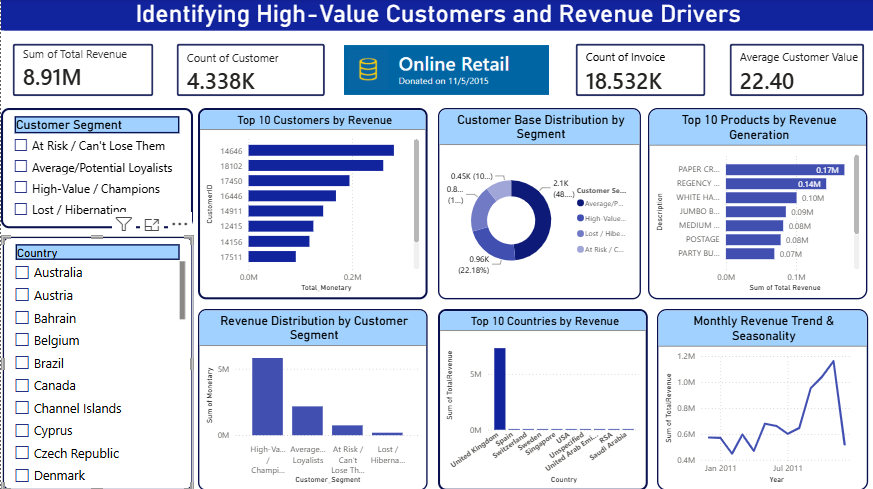

Layout of this report page (visuals, bound fields, positions):
{"tool":"powerbi","page":{"name":"Page 1","canvas":[1280,720],"ordinal":0},"visuals":[{"type":"cardVisual","fields":{"Data":["Count(cleaned_online_retail.CustomerID)"]},"box":[240,48.6,251.4,111.4],"z":0},{"type":"cardVisual","fields":{"Data":["Count(cleaned_online_retail.InvoiceNo)"]},"box":[824.3,48.6,224.3,111.4],"z":1000},{"type":"cardVisual","fields":{"Data":["Avg(cleaned_online_retail.TotalRevenue)"]},"box":[1048.6,48.6,231.4,111.4],"z":2000},{"type":"cardVisual","fields":{"Data":["Sum(cleaned_online_retail.TotalRevenue)"]},"box":[0,48.6,240,111.4],"z":3000},{"type":"slicer","fields":{"Values":["customer_summary.Customer_Segment"]},"box":[0,160,281.4,175.7],"z":4000},{"type":"slicer","fields":{"Values":["cleaned_online_retail.Country"]},"box":[1.4,347.1,280,372.9],"z":5000},{"type":"donutChart","title":"Customer Base Distribution by Segment","fields":{"Category":["customer_summary.Customer_Segment"],"Y":["Count(customer_summary.CustomerID)"]},"box":[640,160,297.1,280],"z":6000},{"type":"lineChart","title":"Monthly Revenue Trend & Seasonality","fields":{"Y":["Sum(cleaned_online_retail.TotalRevenue)"],"Category":["cleaned_online_retail.InvoiceMonth.Variation.Date Hierarchy.Year","cleaned_online_retail.InvoiceMonth.Variation.Date Hierarchy.Month"]},"box":[960,454.3,308.6,265.7],"z":7000},{"type":"clusteredBarChart","title":"Top 10 Products by Revenue Generation","fields":{"Category":["product_summary.Description"],"Y":["Sum(product_summary.Total_Revenue)"]},"box":[947.1,160,321.4,280],"z":8000},{"type":"clusteredColumnChart","title":"Revenue Distribution by Customer Segment","fields":{"Category":["customer_summary.Customer_Segment"],"Y":["Sum(customer_summary.Monetary)"]},"box":[288.6,454.3,335.7,265.7],"z":9000},{"type":"image","box":[501.4,64.3,300,78.6],"z":10000},{"type":"clusteredColumnChart","title":"Top 10 Countries by Revenue","fields":{"Y":["Sum(cleaned_online_retail.TotalRevenue)"],"Category":["cleaned_online_retail.Country"]},"box":[640,454.3,307.1,265.7],"z":11000},{"type":"clusteredBarChart","title":"Top 10 Customers by Revenue","fields":{"Y":["customer_summary.Total_Monetary"],"Category":["customer_summary.CustomerID"]},"box":[288.6,160,335.7,280],"z":12000},{"type":"textbox","title":"Identifying High-Value Customers and Revenue Drivers","box":[0,0,1280,48.6],"z":13000}]}

Visuals, with their boxes in screenshot pixels (x1, y1, x2, y2), scaled from the page's 1280x720 canvas onto the 873x489 screenshot:
cardVisual - Count(cleaned_online_retail.CustomerID): [164,33,335,109]
cardVisual - Count(cleaned_online_retail.InvoiceNo): [562,33,715,109]
cardVisual - Avg(cleaned_online_retail.TotalRevenue): [715,33,872,109]
cardVisual - Sum(cleaned_online_retail.TotalRevenue): [0,33,164,109]
slicer - customer_summary.Customer_Segment: [0,109,192,228]
slicer - cleaned_online_retail.Country: [1,236,192,488]
"Customer Base Distribution by Segment" donutChart: [436,109,639,299]
"Monthly Revenue Trend & Seasonality" lineChart: [655,309,865,488]
"Top 10 Products by Revenue Generation" clusteredBarChart: [646,109,865,299]
"Revenue Distribution by Customer Segment" clusteredColumnChart: [197,309,426,488]
image: [342,44,547,97]
"Top 10 Countries by Revenue" clusteredColumnChart: [436,309,646,488]
"Top 10 Customers by Revenue" clusteredBarChart: [197,109,426,299]
"Identifying High-Value Customers and Revenue Drivers" textbox: [0,0,872,33]
